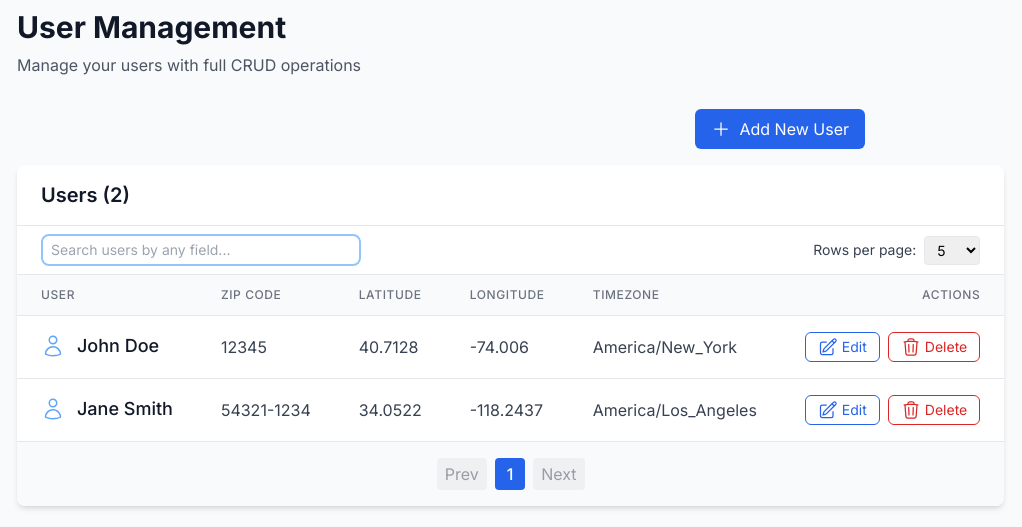
Test: UserCRUD Integration Tests › should search and filter users
Expected: the text "John Doe" is shown, x1=77 y1=332 x2=159 y2=360
# Find search input
Step 1. Type "John" into the field with placeholder "Search users by any field..." → [201, 250], box x1=41 y1=234 x2=361 y2=266
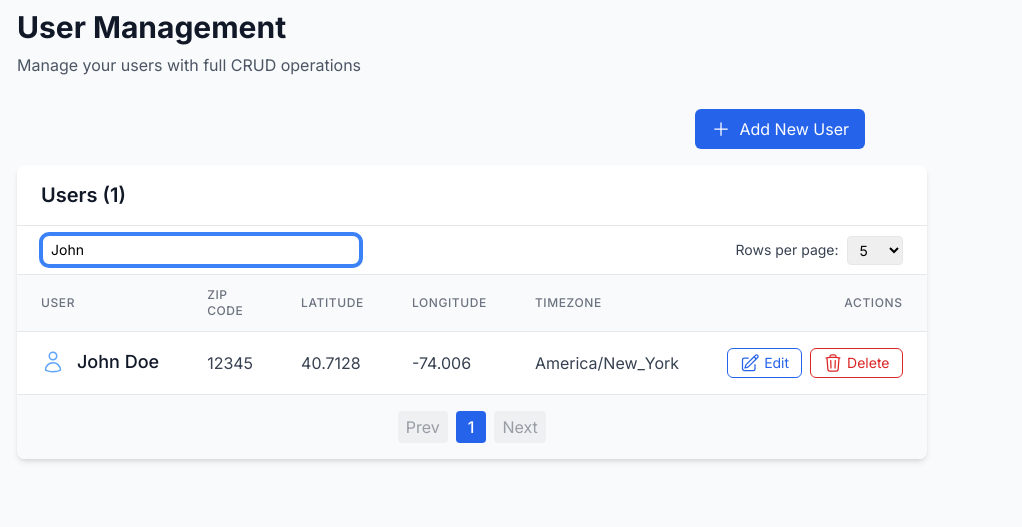
Expected: the text "John Doe" is shown, x1=77 y1=348 x2=159 y2=376
Now the text "Jane Smith" is gone
# Clear search
Step 2. Replace the text in the field with placeholder "Search users by any field..." with "Jane" → [201, 250], box x1=41 y1=234 x2=361 y2=266
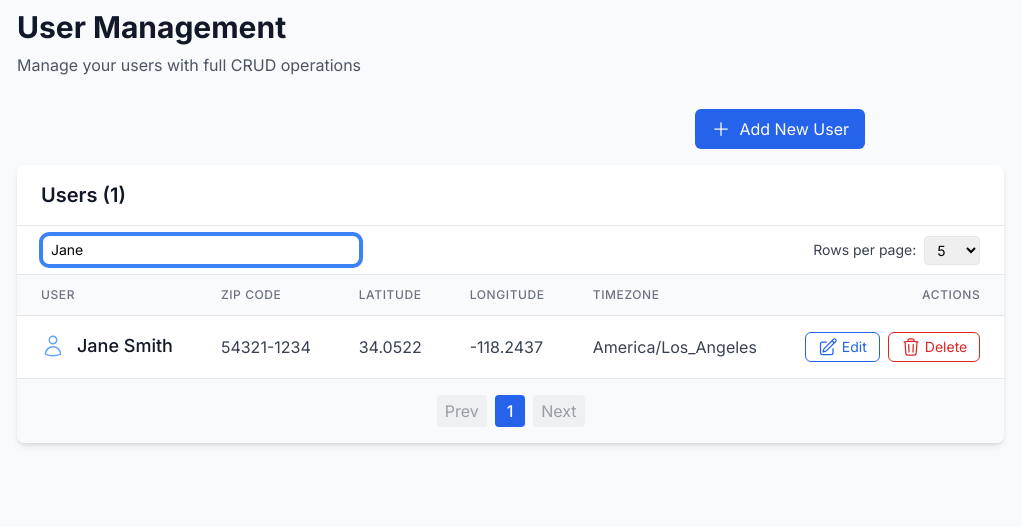
Now the text "Jane Smith" is shown, box x1=77 y1=332 x2=173 y2=360
Now the text "John Doe" is gone
